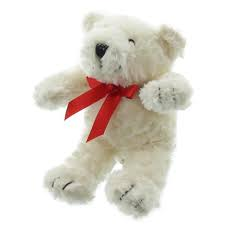teddy: (30, 5, 202, 217)
